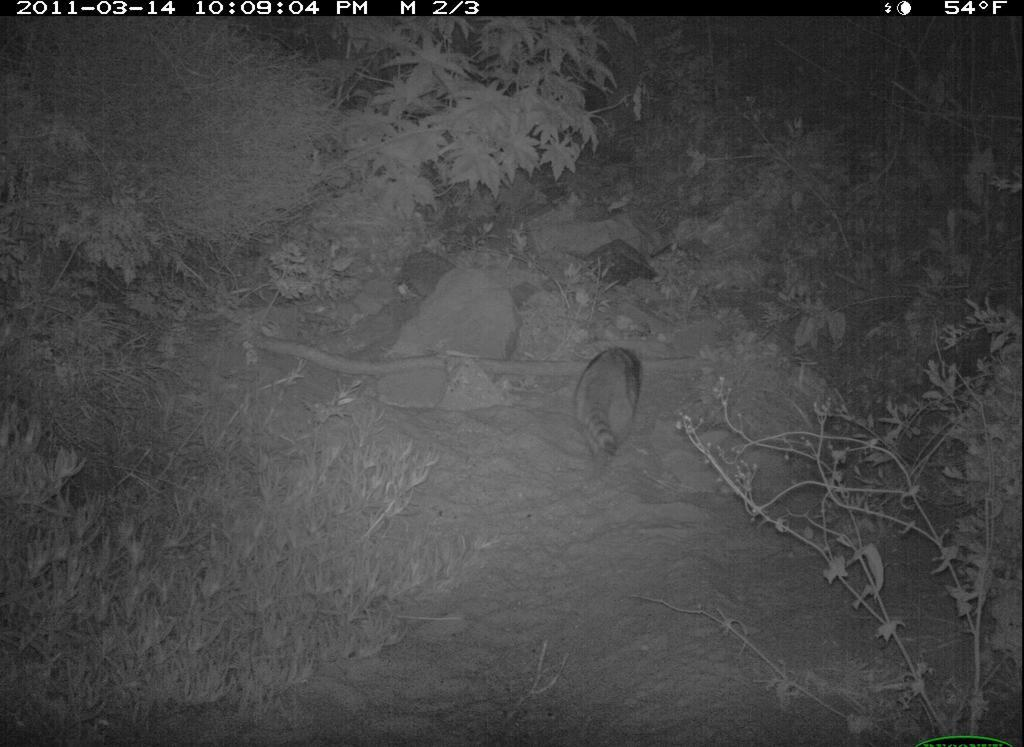raccoon: (564, 337, 655, 478)
